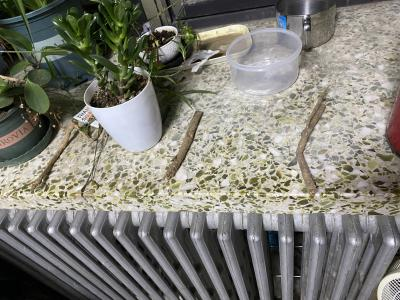Root: (32, 122, 80, 190), (296, 97, 326, 195), (163, 111, 203, 180)
